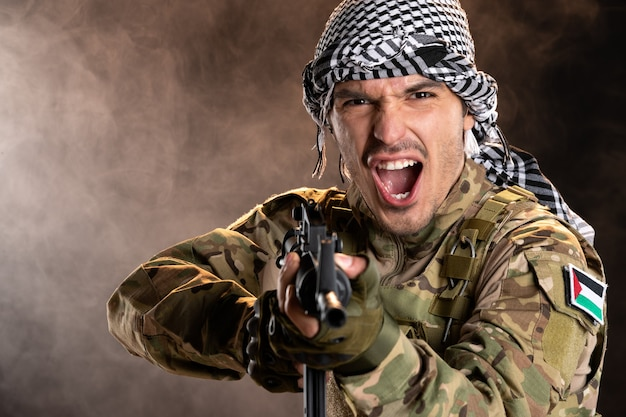gun: (281, 203, 353, 329)
